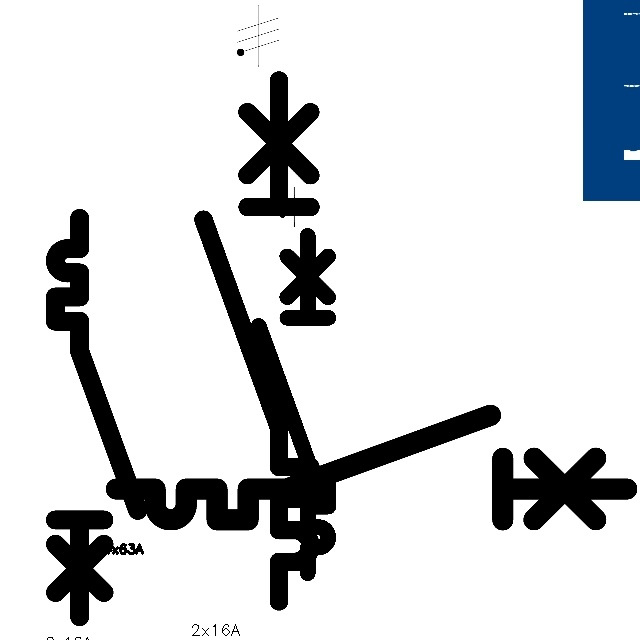interruptor_termomagnetico: (190, 67, 324, 615), (103, 402, 640, 533), (45, 208, 147, 627), (250, 227, 337, 582)
